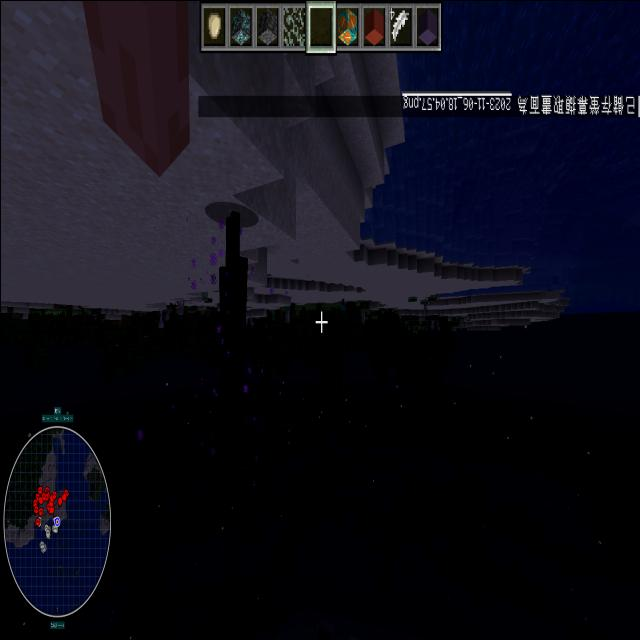Creeper: (198, 290, 208, 302)
Enderman: (194, 202, 264, 503)
Skeleton: (175, 296, 185, 316), (156, 308, 164, 328), (422, 297, 428, 315), (424, 319, 428, 331), (435, 314, 439, 326)
Spider: (168, 301, 182, 311), (202, 295, 212, 304)
Zombie: (340, 296, 346, 314)
